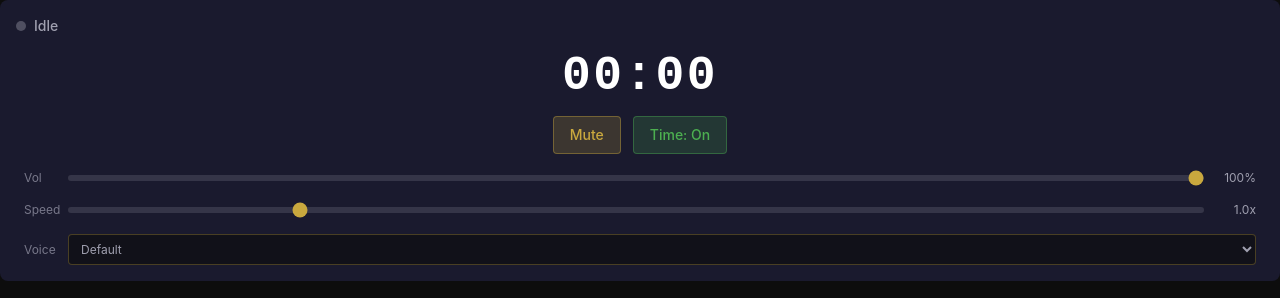
Scenario: MainDock › UI controls › volume slider updates value live showing correct percentage
Expected: the text with test id "volume-value" reads "100%", x1=1224 y1=170 x2=1256 y2=185
Set the slider with test id "volume-slider" to "50" at coordinates (636, 178), box x1=68 y1=175 x2=1204 y2=181
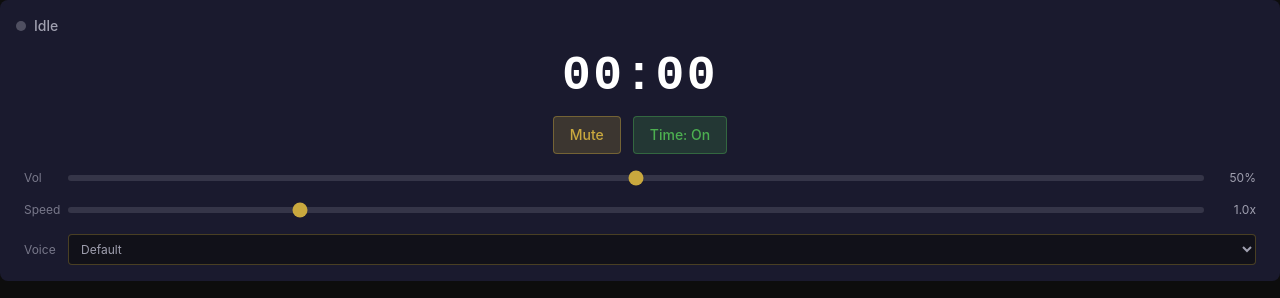
Expected: the text with test id "volume-value" reads "50%", x1=1230 y1=170 x2=1256 y2=185
